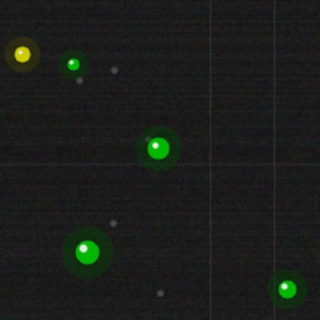green_normal: (73, 238, 101, 266), (145, 135, 171, 161), (276, 278, 298, 300), (65, 56, 81, 72)
yellow_warning: (12, 44, 32, 64)
